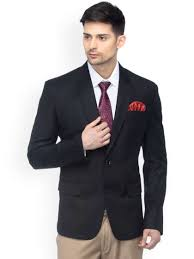F_M_suit jacket: (23, 55, 175, 244)
F_tie: (93, 77, 121, 134)
